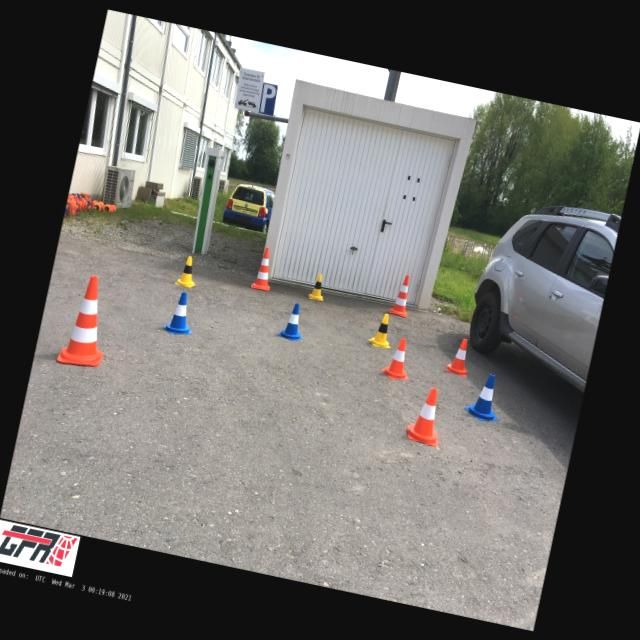blue_cone: (462, 369, 507, 423), (162, 288, 200, 338), (276, 300, 308, 342)
large_orange_cone: (57, 272, 117, 369), (251, 246, 278, 291), (388, 273, 414, 317)
orange_cone: (405, 384, 448, 446), (381, 334, 417, 380), (446, 336, 474, 376)
yellow_cone: (367, 310, 397, 350), (174, 254, 200, 288), (308, 272, 328, 302)
